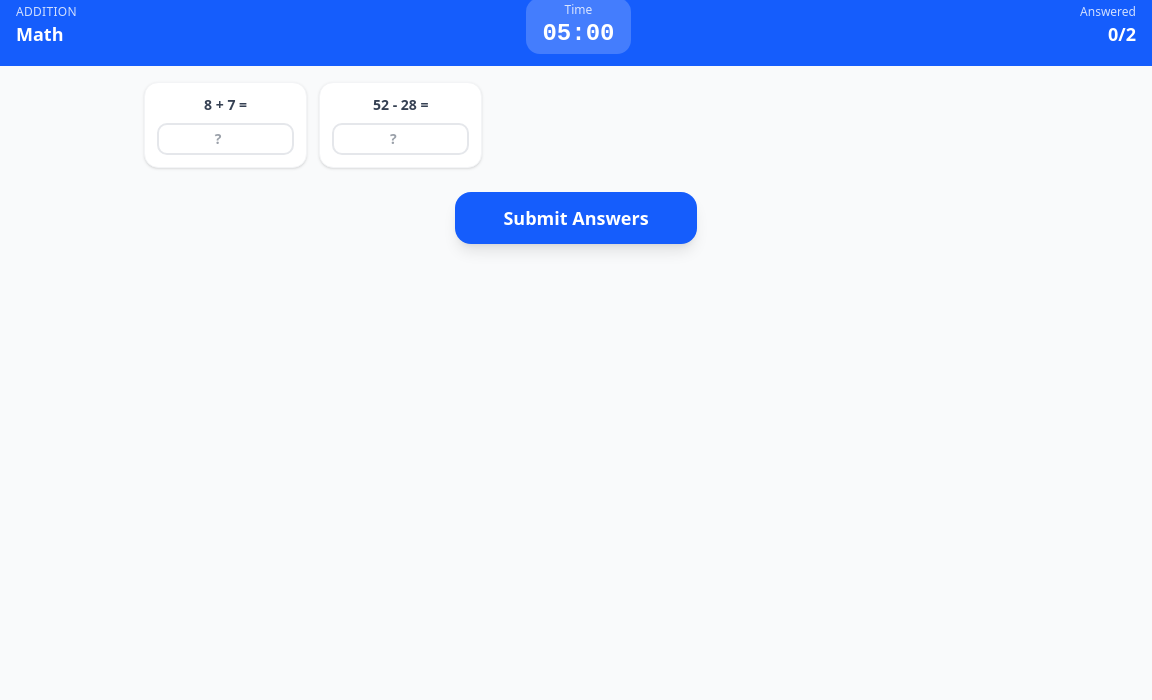
Test: teaching review › teaches skipped questions and doesn't leak answers during a grid drill
Expected: the element "Learn how to solve it" is not shown
Click the button "Submit Answers".
click(576, 218)  # box [455, 192, 697, 244]
(page scrolled)
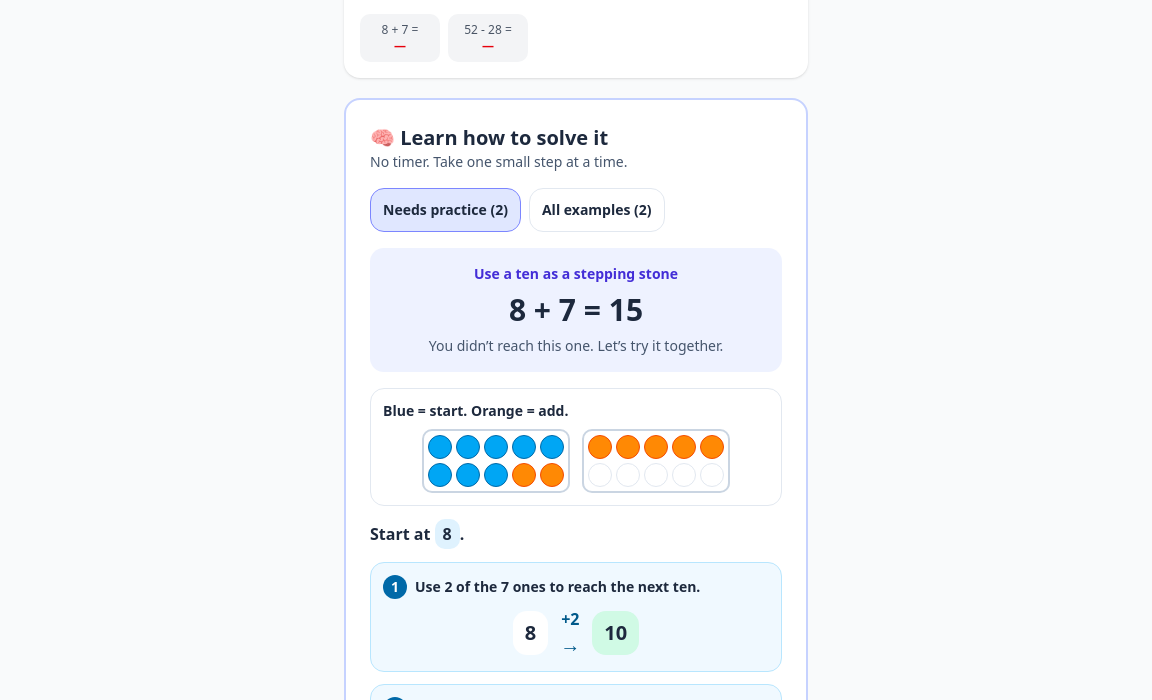
Expected: the text "8 + 7 = 15" is shown, [509, 289, 643, 330]
Expected: the text "You didn’t reach this one. Let’s try it together." is shown, [429, 336, 723, 355]
